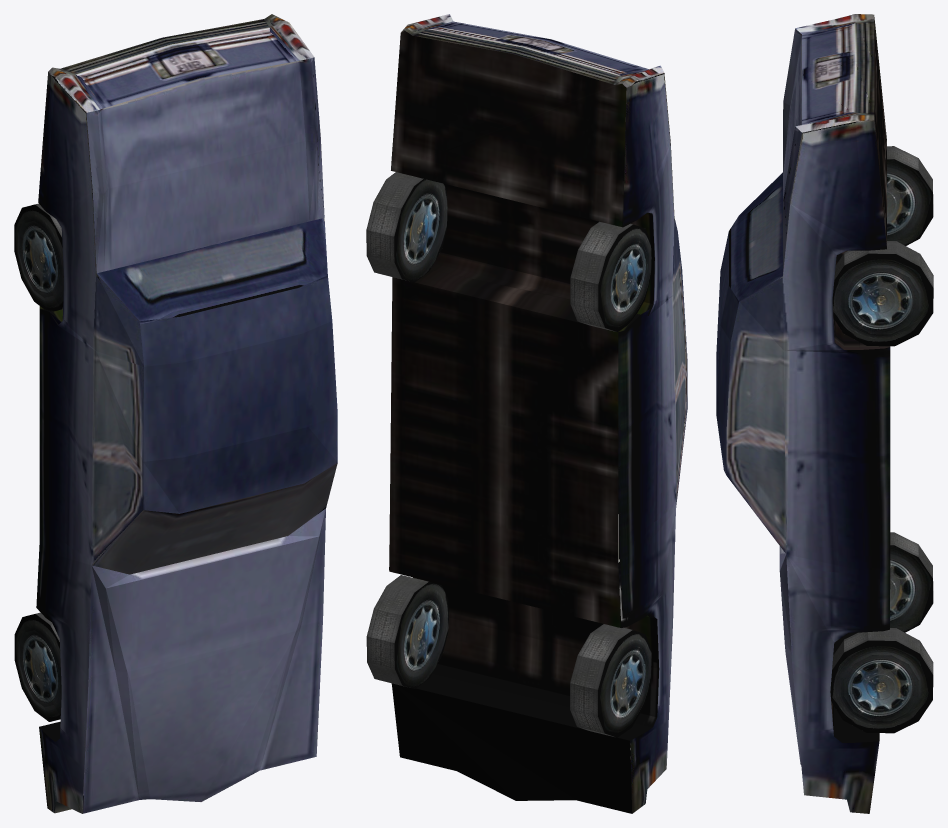
File: carpack_sedan_wtf.obj
3 views of the same model, side by side, from view 1: azimuth 30°, elevation 25°; view 2: azimuth 150°, elevation 25°; view 3: azimuth 270°, elevation 25° (orthographic). The views are drawn at different scales.
Parts seen in each view (by area): view 1: group2; view 2: group2; view 3: group2.
Part boxes in pixels (x1,y1,x2,y2): group2: (14, 14, 337, 813); group2: (366, 14, 687, 813); group2: (716, 14, 933, 813).
Bounding box in the file's own units: 226 × 660 × 183.
